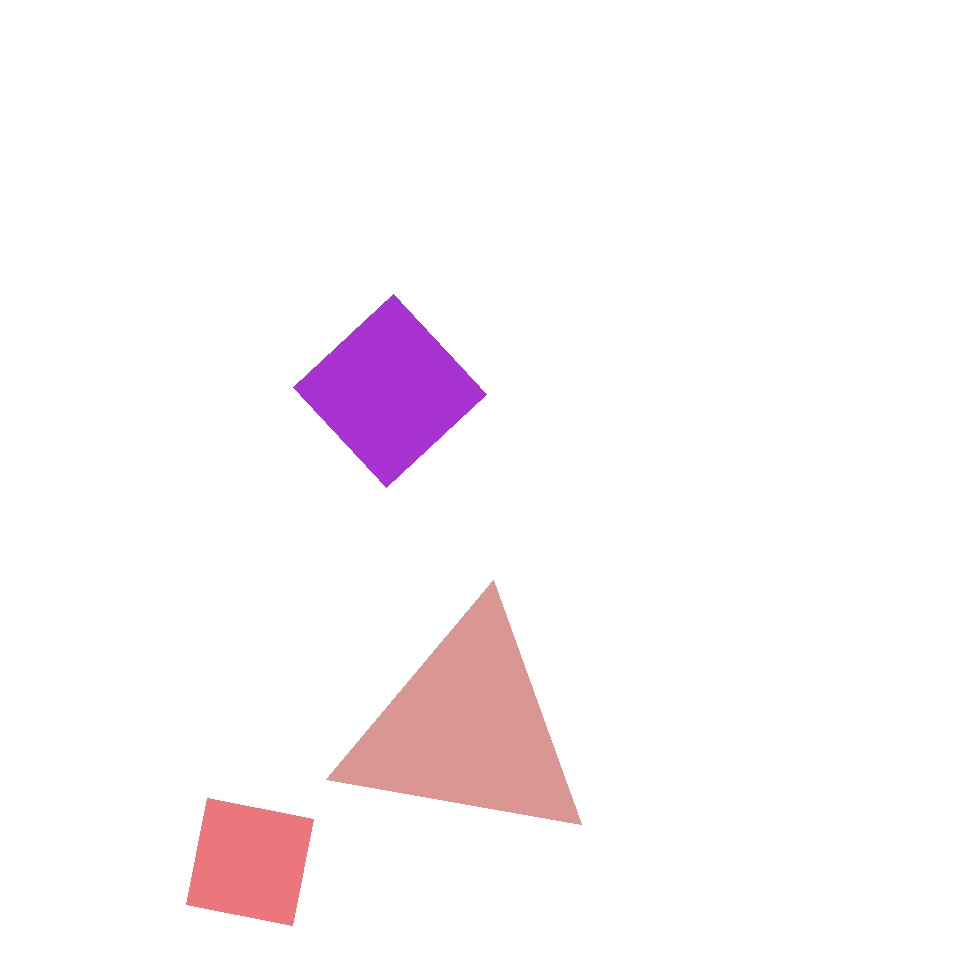circle: (340, 606, 594, 850), (554, 286, 770, 472), (412, 706, 558, 842)
square: (294, 294, 487, 488), (213, 292, 398, 477), (781, 331, 940, 490), (186, 798, 314, 926)
triangle: (310, 442, 580, 712), (26, 406, 230, 608)
